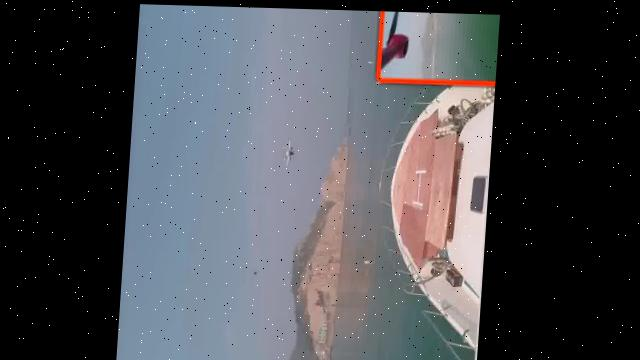drone: (275, 139, 303, 171)
